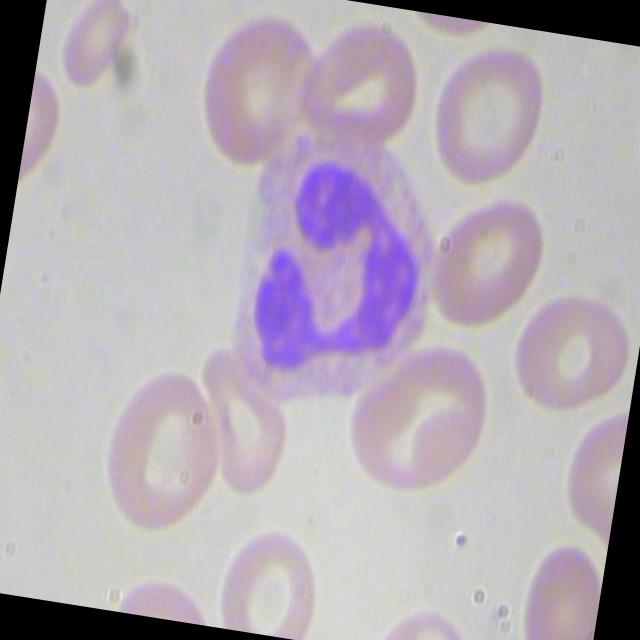RBC: (339, 326, 498, 512), (88, 354, 234, 538), (180, 3, 334, 175), (415, 178, 558, 341), (418, 34, 560, 197), (182, 342, 314, 500), (301, 0, 434, 149), (511, 283, 640, 419), (204, 510, 332, 640), (502, 531, 608, 640), (51, 0, 152, 93)
WBC: (192, 106, 460, 412)
